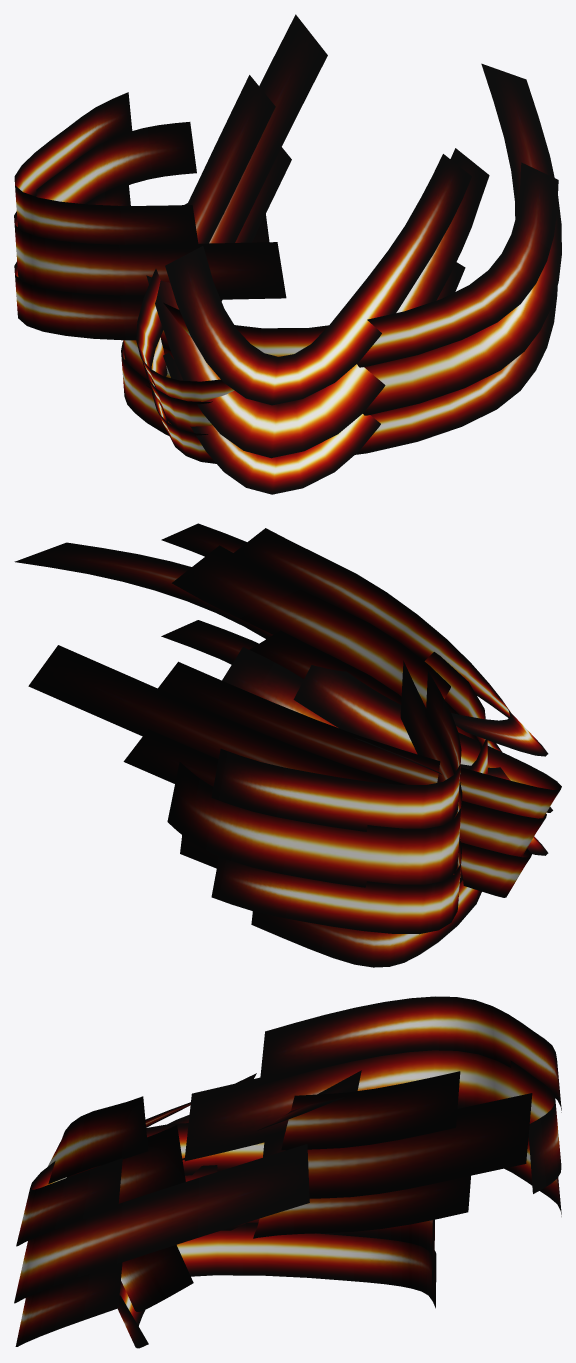
The model's file is effect_zhanghe_1.FBX.
3 views of the same model, one above another, from view 1: azimuth 30°, elevation 25°; view 2: azimuth 150°, elevation 25°; view 3: azimuth 270°, elevation 25° (orthographic). The views are drawn at different scales.
Parts seen in each view (by area): view 1: effect_zhanghe_3_2, effect_zhanghe_2, effect_zhanghe_3_1, effect_zhanghe_1; view 2: effect_zhanghe_3_1, effect_zhanghe_1, effect_zhanghe_3_2, effect_zhanghe_2; view 3: effect_zhanghe_2, effect_zhanghe_3_1, effect_zhanghe_1, effect_zhanghe_3_2.
Part boxes in pixels (bbox=[...]): effect_zhanghe_3_2: bbox=[146, 148, 489, 494]; effect_zhanghe_2: bbox=[121, 63, 561, 454]; effect_zhanghe_3_1: bbox=[14, 92, 286, 340]; effect_zhanghe_1: bbox=[136, 14, 327, 463]; effect_zhanghe_3_1: bbox=[167, 660, 462, 934]; effect_zhanghe_1: bbox=[28, 645, 561, 897]; effect_zhanghe_3_2: bbox=[172, 528, 552, 855]; effect_zhanghe_2: bbox=[14, 523, 487, 967]; effect_zhanghe_2: bbox=[14, 1123, 436, 1346]; effect_zhanghe_3_1: bbox=[184, 996, 561, 1216]; effect_zhanghe_1: bbox=[118, 1071, 532, 1348]; effect_zhanghe_3_2: bbox=[48, 1070, 361, 1203].
Size of the model in its own units: 202 by 120 by 183.
Materials: 1 (1 with a texture image).
